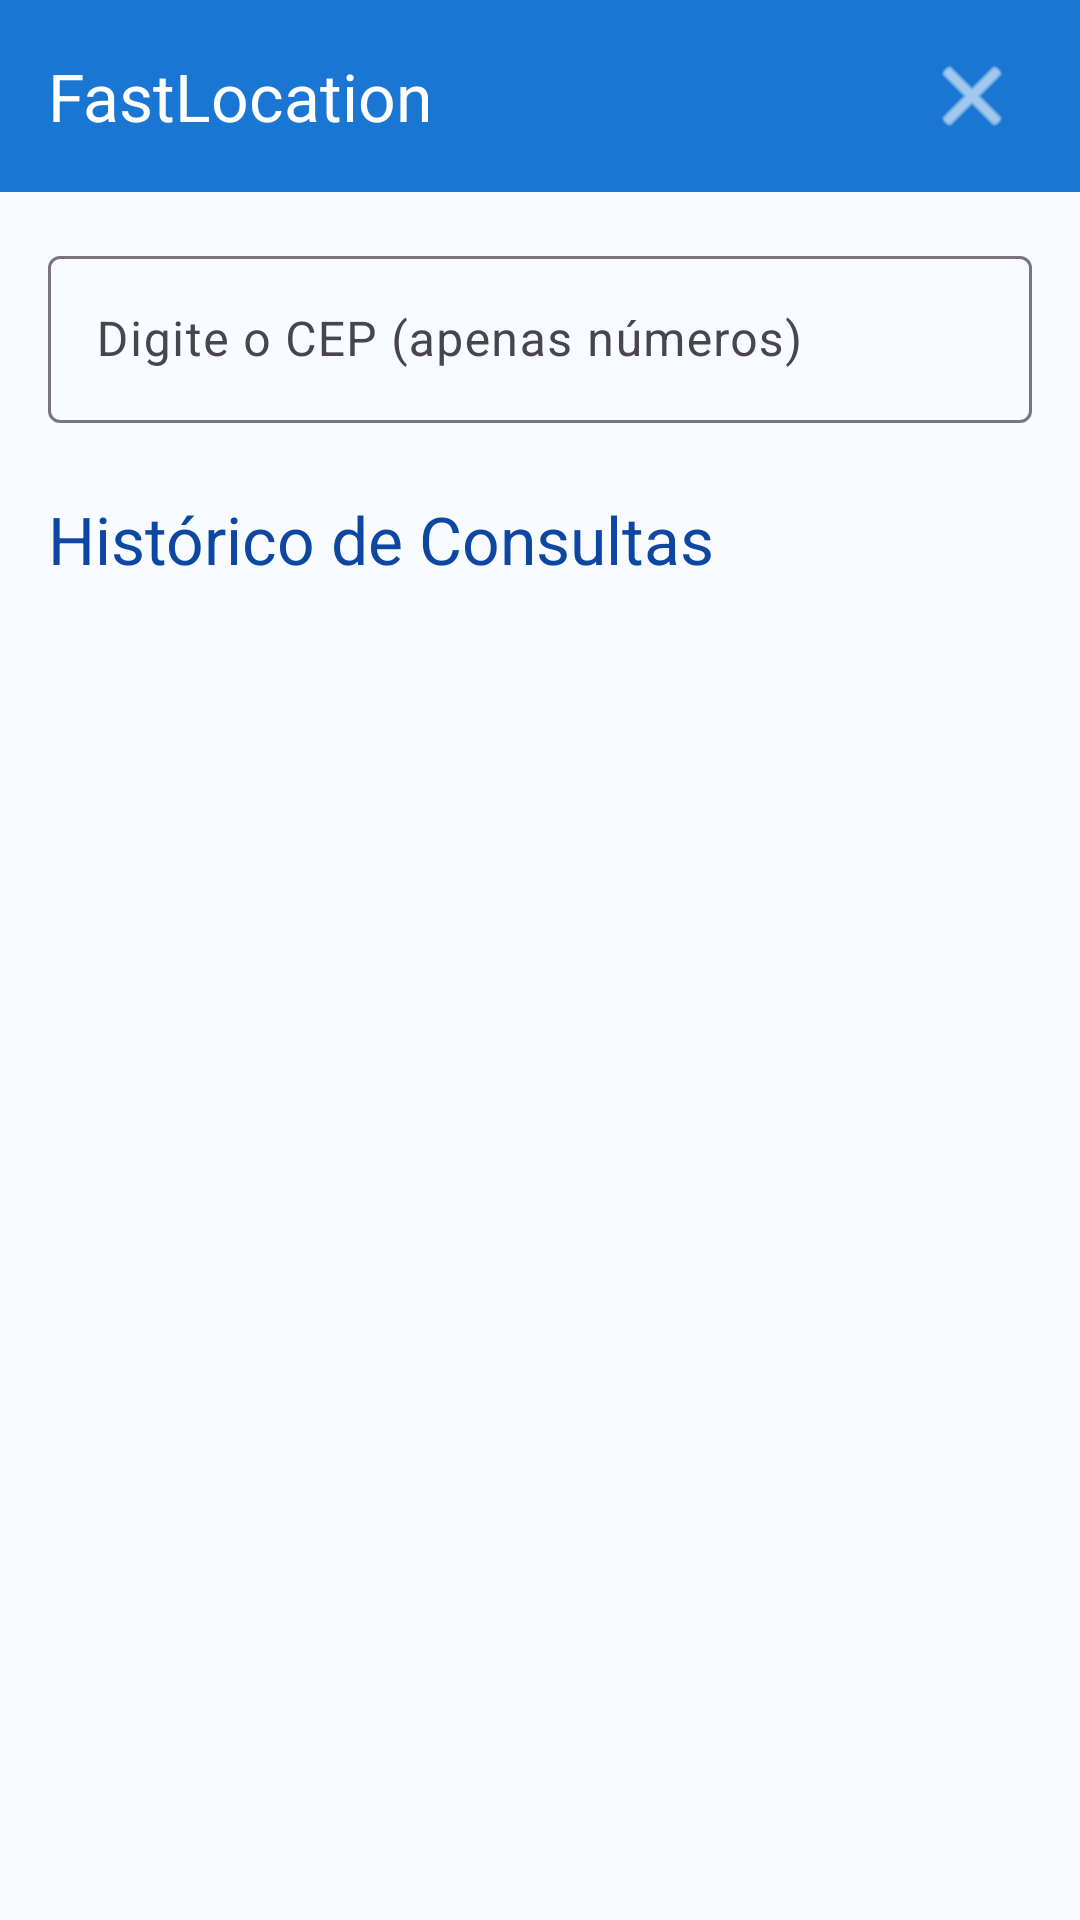

Named icons in this screenshot (1080*1920) and their bounding boxes, [x1, y1, x2, y2]:
Limpar: [942, 66, 1002, 126]
